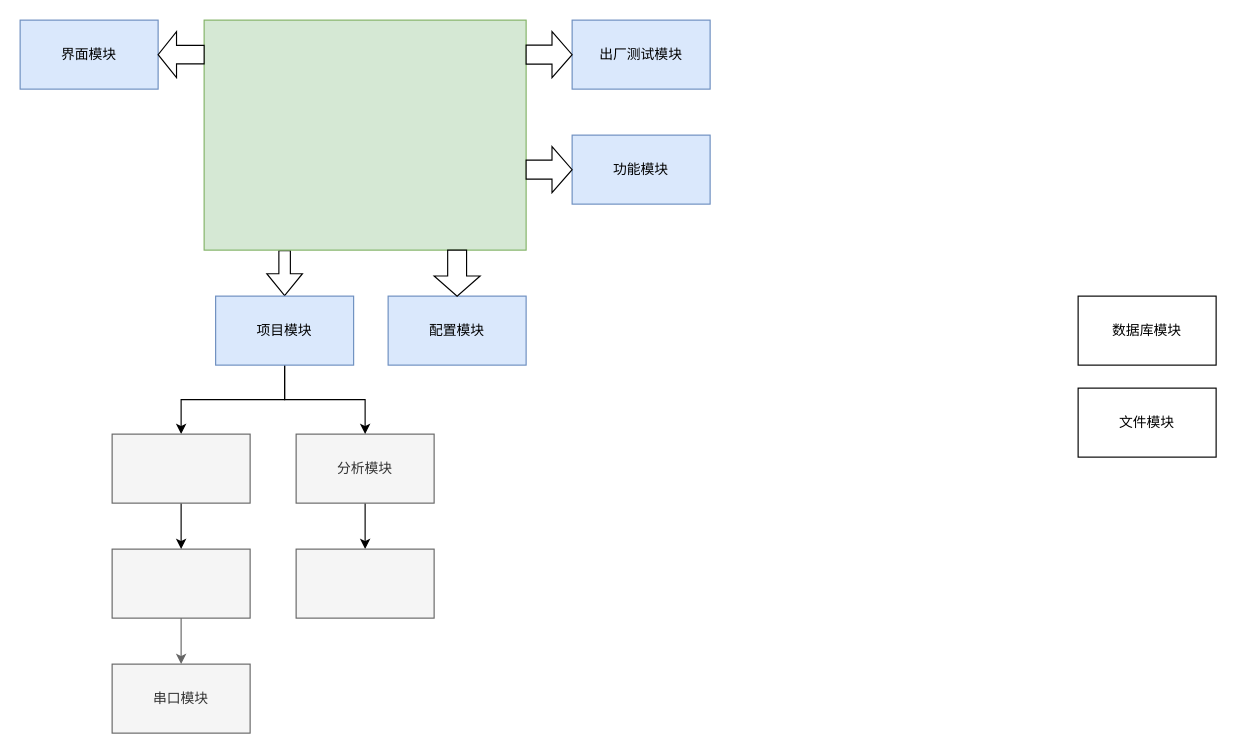
This 1236x753 diagram has some shape labels left out. Each missing label, with the centre of its shape:
"主模块" goes at (364,134).
"线性拟合模块" goes at (364,583).
"读板模块" goes at (180,468).
"通讯模块" goes at (180,583).
